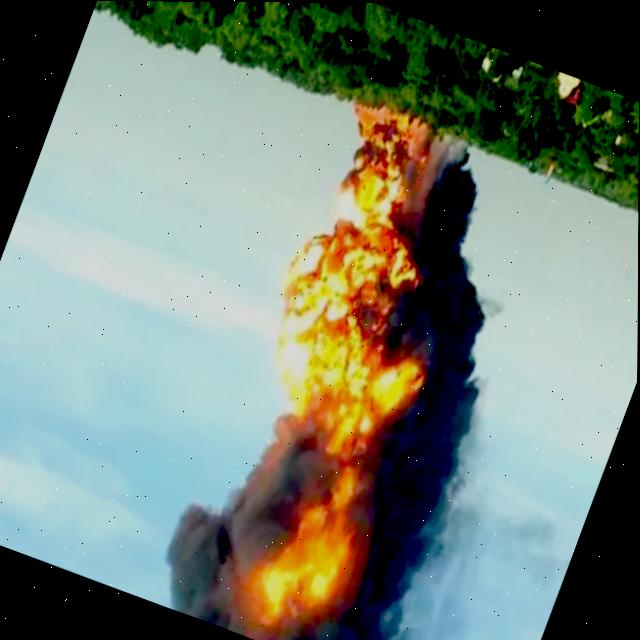Smoke: (81, 72, 627, 640)
